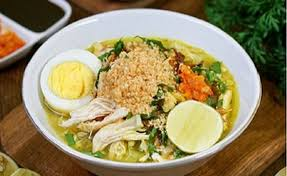soto: (33, 23, 264, 161)
